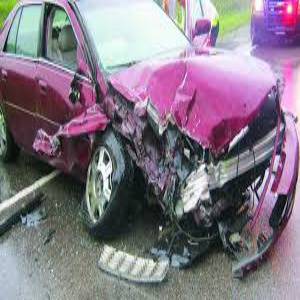bonnet: (134, 60, 270, 140)
bumper: (154, 153, 300, 264)
side_mirror: (60, 70, 93, 107)
